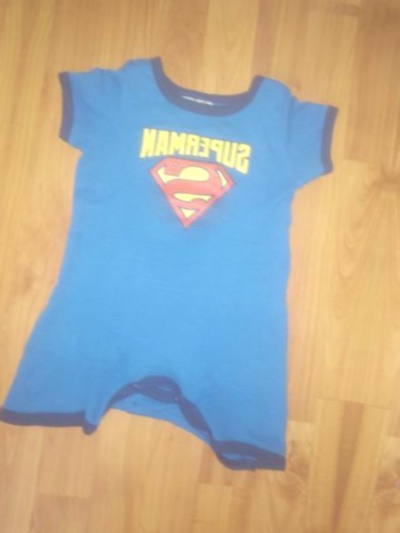Body: (0, 7, 378, 491), (372, 71, 400, 533), (0, 0, 14, 431)
